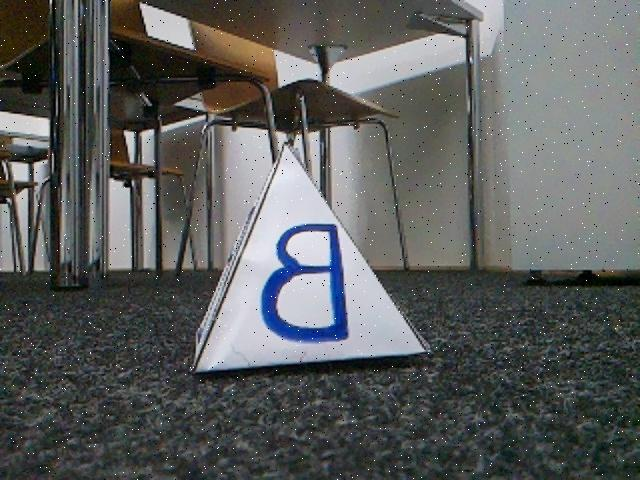B: (188, 141, 433, 376)
